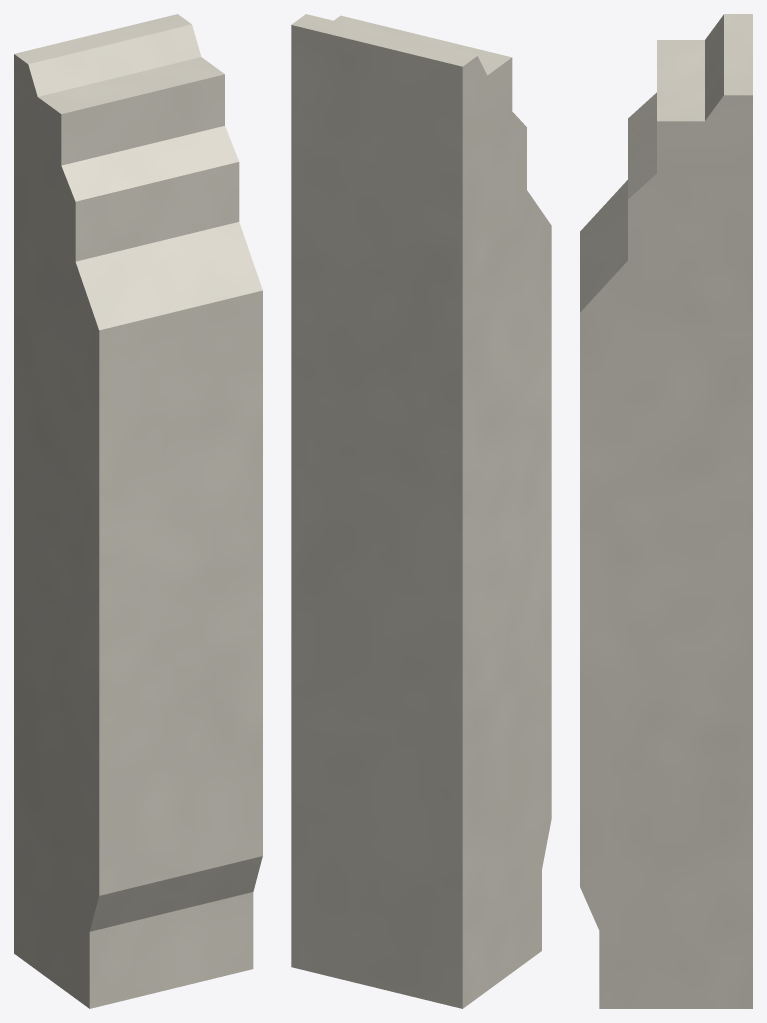
File: PZ_InteriorTrim_V06_Baseboard_EndReturn.glb
3 views of the same model, side by side, from view 1: azimuth 30°, elevation 25°; view 2: azimuth 150°, elevation 25°; view 3: azimuth 270°, elevation 25° (orthographic). The views are drawn at different scales.
Visible parts, largest first — view 1: V06_Baseboard_EndReturn__Skirting_Finished_Return; view 2: V06_Baseboard_EndReturn__Skirting_Finished_Return; view 3: V06_Baseboard_EndReturn__Skirting_Finished_Return.
Boxes of the visible parts, left/top/right/bottom form: V06_Baseboard_EndReturn__Skirting_Finished_Return: left=14, top=14, right=262, bottom=1008; V06_Baseboard_EndReturn__Skirting_Finished_Return: left=291, top=14, right=551, bottom=1008; V06_Baseboard_EndReturn__Skirting_Finished_Return: left=580, top=14, right=752, bottom=1008.
Size of the model in its own units: 0.02 by 0.105 by 0.018.
Materials: 1 (1 with a texture image).
